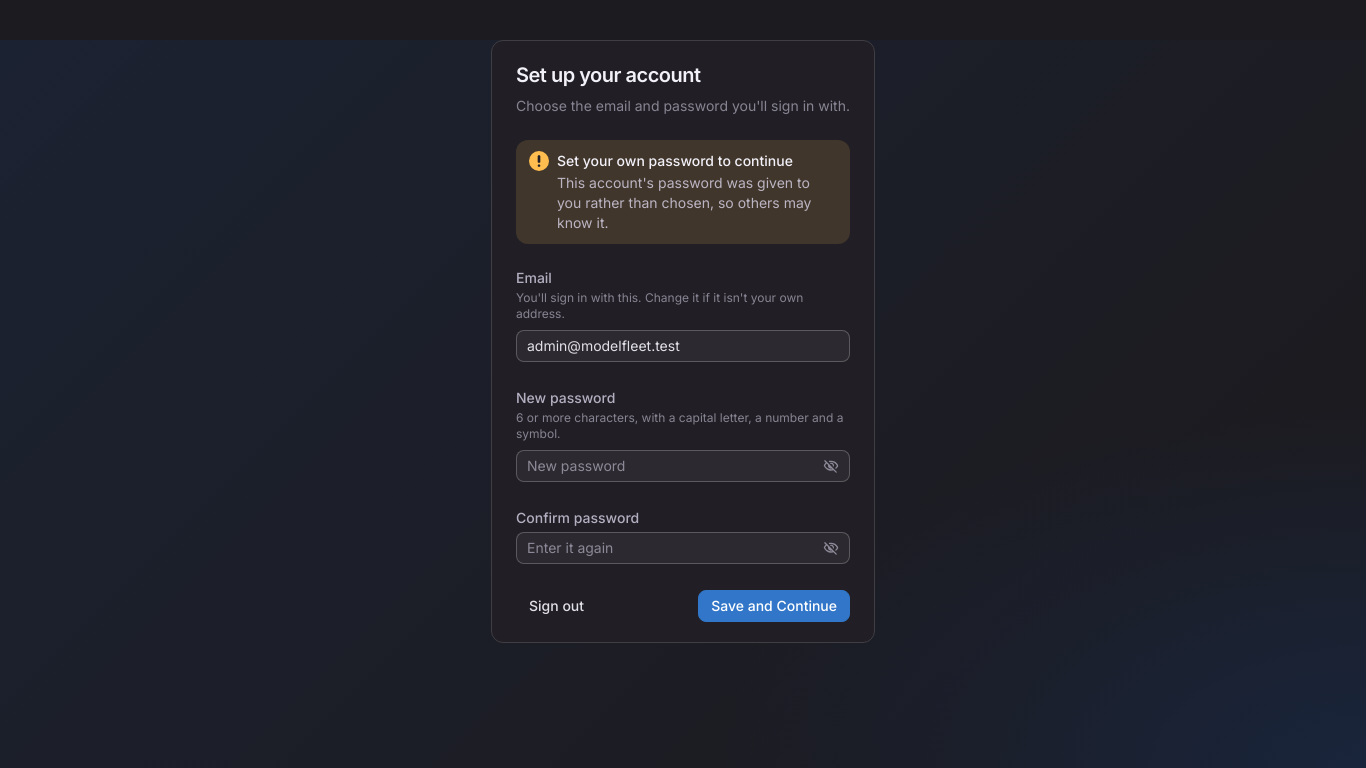
FirstTimeSetup › shows the api's refusal of the initial password under the new password
The image size is (1366, 768).
Step 1. Type "Initial-pass1!" into the password field named "new-password" → [673, 466], box [527,451,819,481]
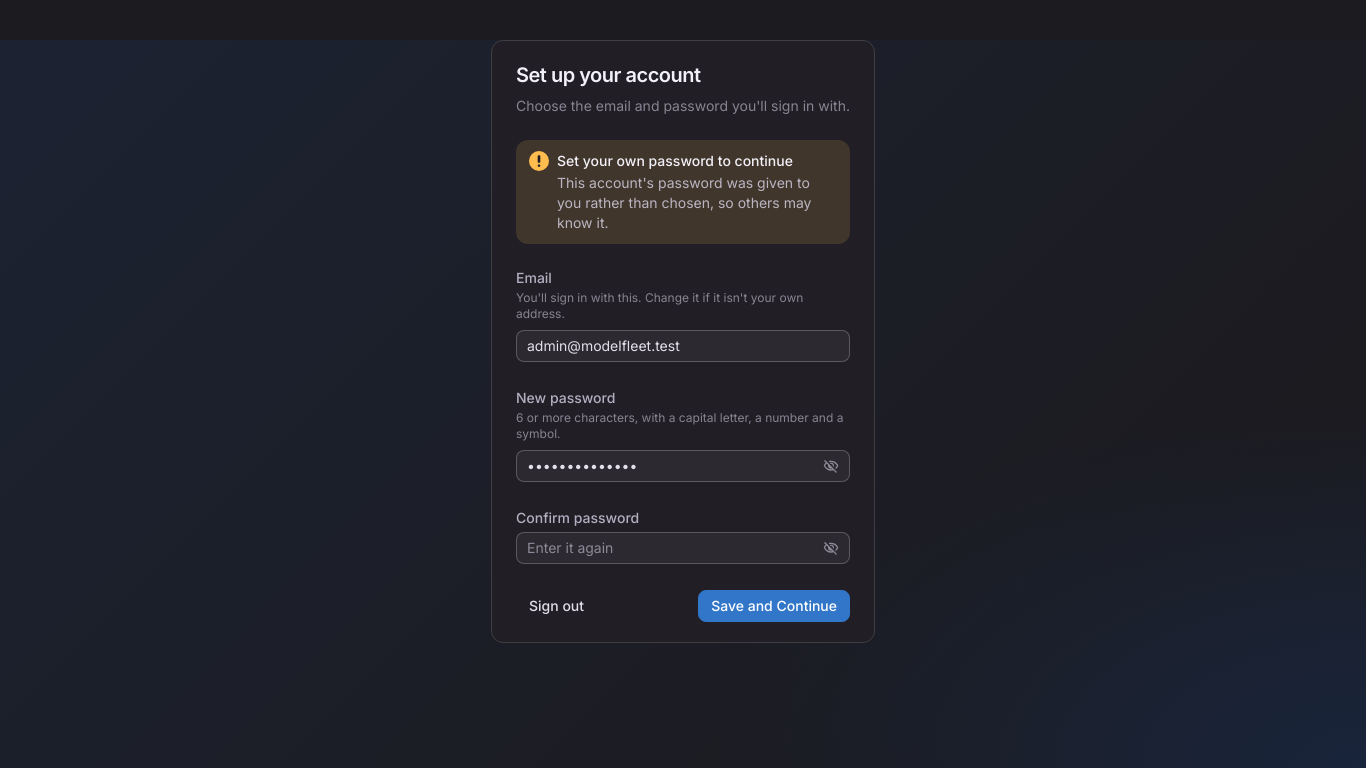
Step 2. Type "Initial-pass1!" into the password field named "confirm-password" → [673, 548], box [527,533,819,563]
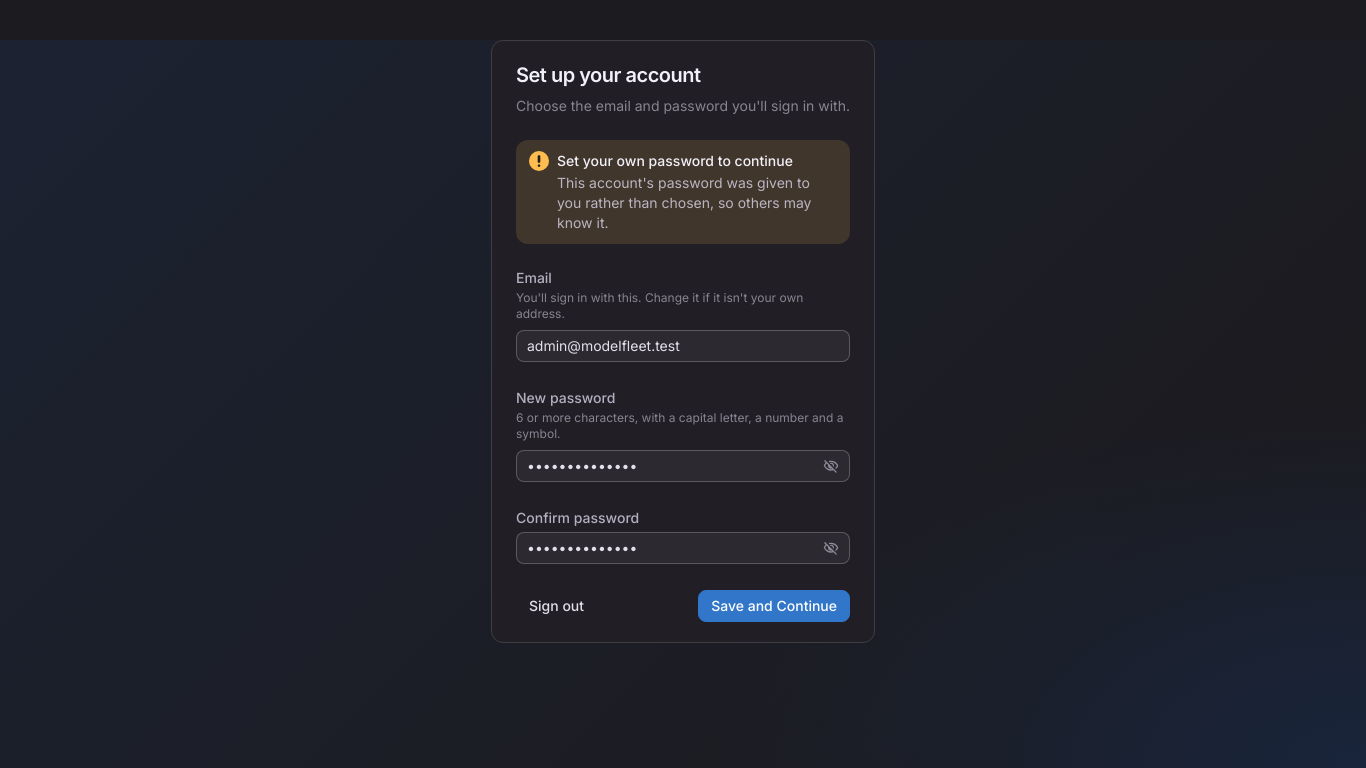
Step 3. Submit the form, box [516,61,850,622]
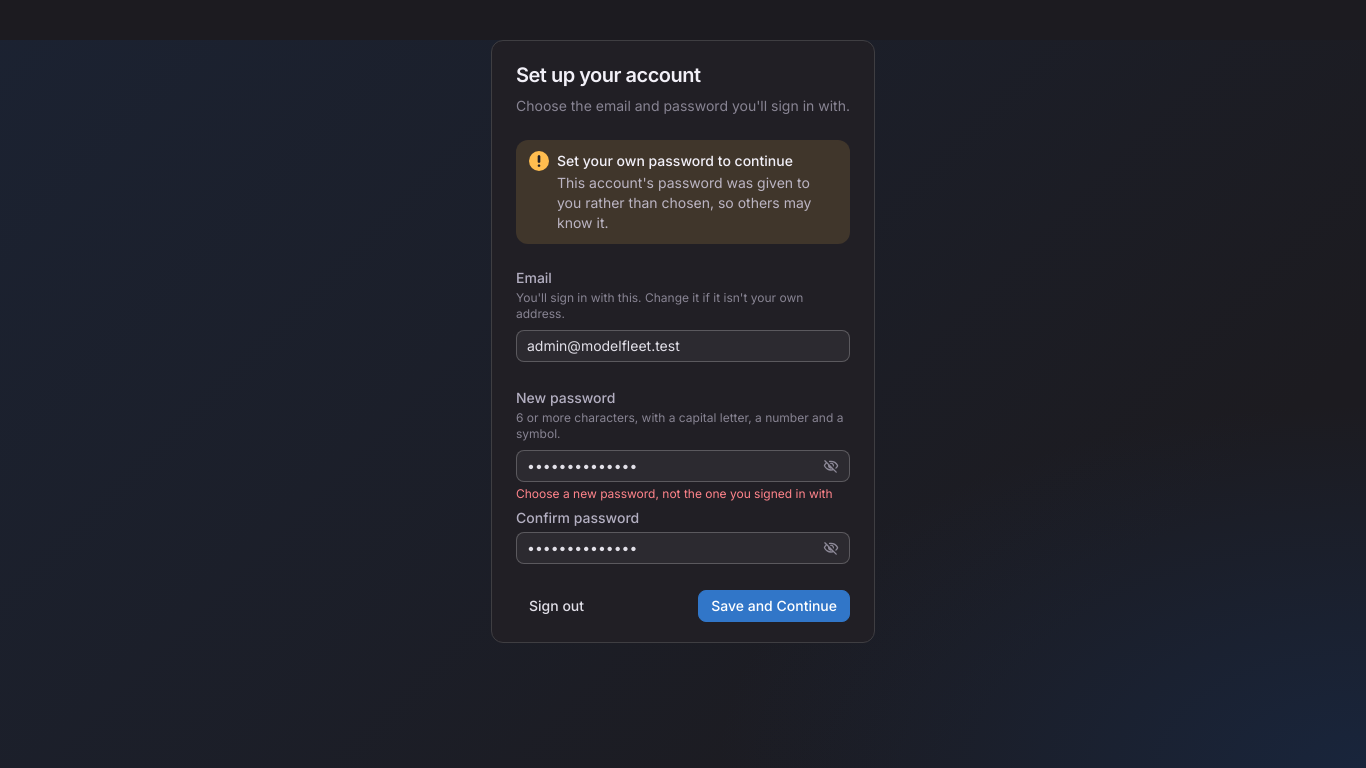
Result: the text with test id "field-error" reads "Choose a new password, not the one you signed in with" at [516,486,833,501]
